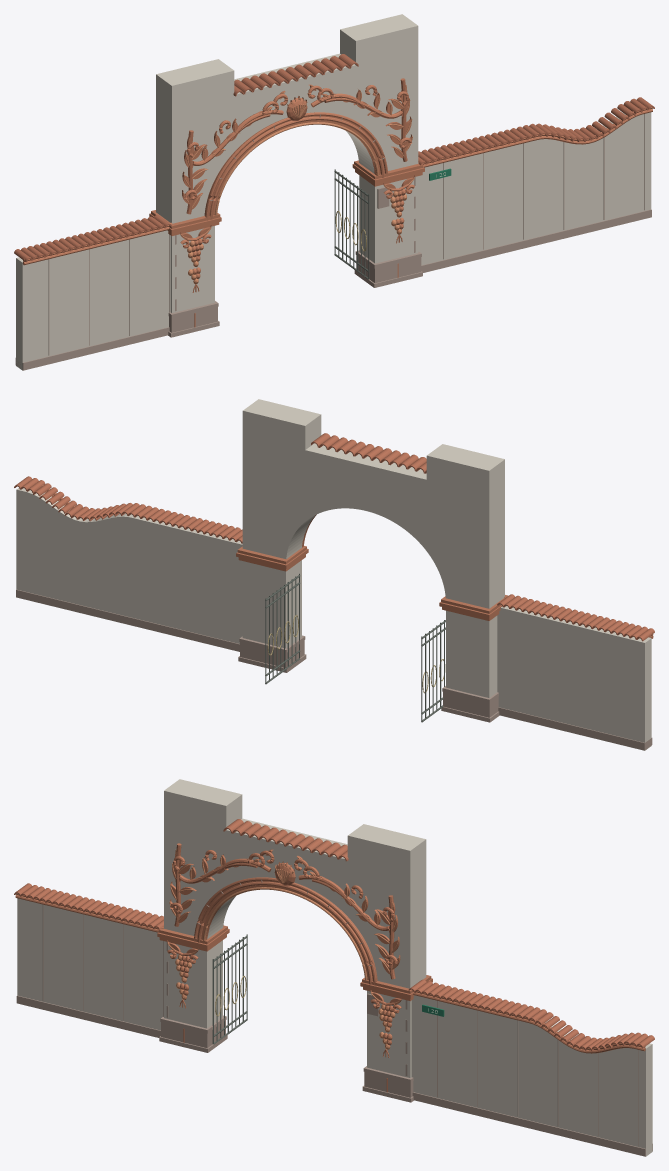
The model's file is changning-weile-garden-taian-gate-web.glb.
3 views of the same model, one above another, from view 1: azimuth 30°, elevation 25°; view 2: azimuth 150°, elevation 25°; view 3: azimuth 330°, elevation 25° (orthographic).
Parts seen in each view (by area): view 1: 卫乐园泰安路120弄街门; view 2: 卫乐园泰安路120弄街门; view 3: 卫乐园泰安路120弄街门.
Part boxes in pixels (x1,y1,x2,y2): 卫乐园泰安路120弄街门: (14, 14, 654, 370); 卫乐园泰安路120弄街门: (14, 399, 654, 750); 卫乐园泰安路120弄街门: (14, 779, 654, 1156).
Size of the model in its own units: 16.89 by 6.41 by 2.01.
